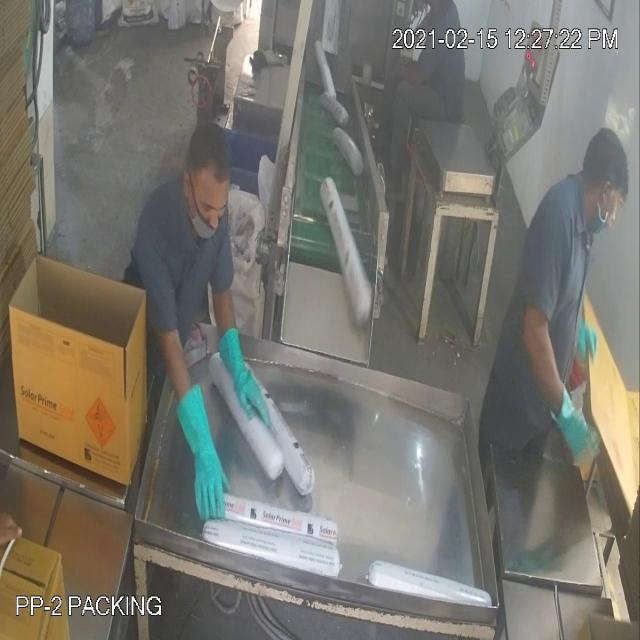gloves: (173, 366, 233, 530), (540, 368, 611, 487), (215, 318, 275, 438)
no-gloves: (383, 55, 443, 99)
